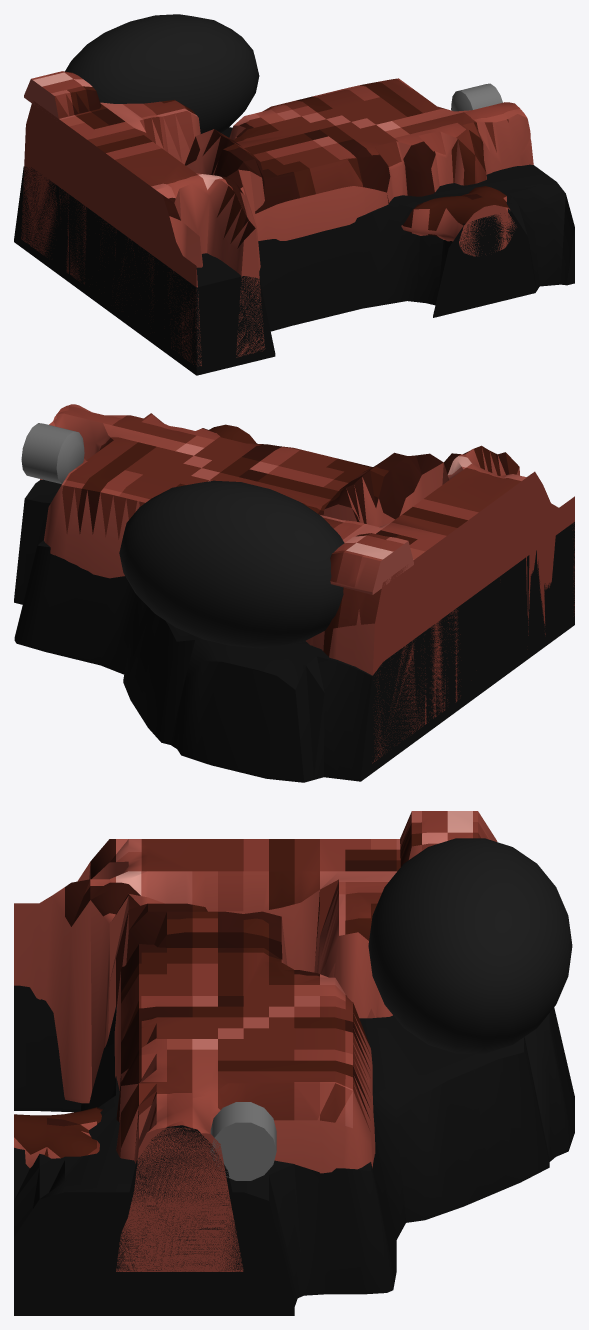
File: deli_boss_9.glb
3 views of the same model, one above another, from view 1: azimuth 30°, elevation 25°; view 2: azimuth 150°, elevation 25°; view 3: azimuth 270°, elevation 25° (orthographic). The views are drawn at different scales.
Parts seen in each view (by area): view 1: deli_boss_9_core, deli_boss_9_frame, deli_boss_9_beam, deli_boss_9_hump_m, deli_boss_9_claw, deli_boss_9_plate, deli_boss_9_pin_m; view 2: deli_boss_9_core, deli_boss_9_frame, deli_boss_9_hump_m, deli_boss_9_beam, deli_boss_9_plate, deli_boss_9_pin_m, deli_boss_9_claw; view 3: deli_boss_9_core, deli_boss_9_beam, deli_boss_9_frame, deli_boss_9_hump_m, deli_boss_9_bend, deli_boss_9_pin_m, deli_boss_9_claw, deli_boss_9_plate.
Boxes of the visible parts, box(x1,y1,x2,y2) form: deli_boss_9_core: box(14, 127, 574, 375); deli_boss_9_frame: box(21, 99, 265, 366); deli_boss_9_beam: box(229, 78, 530, 240); deli_boss_9_hump_m: box(65, 14, 259, 133); deli_boss_9_claw: box(401, 186, 516, 256); deli_boss_9_plate: box(24, 71, 101, 118); deli_boss_9_pin_m: box(451, 83, 502, 111); deli_boss_9_core: box(14, 479, 574, 782); deli_boss_9_frame: box(306, 445, 574, 763); deli_boss_9_hump_m: box(119, 480, 344, 648); deli_boss_9_beam: box(44, 404, 372, 578); deli_boss_9_plate: box(330, 533, 413, 594); deli_boss_9_pin_m: box(21, 423, 84, 484); deli_boss_9_claw: box(209, 424, 256, 443); deli_boss_9_core: box(14, 985, 574, 1315); deli_boss_9_beam: box(114, 944, 392, 1271); deli_boss_9_frame: box(14, 839, 400, 1103); deli_boss_9_hump_m: box(368, 838, 572, 1053); deli_boss_9_bend: box(114, 1121, 245, 1257); deli_boss_9_pin_m: box(210, 1102, 276, 1180); deli_boss_9_claw: box(14, 1107, 102, 1167); deli_boss_9_plate: box(400, 811, 497, 866).
Size of the model in its own units: 24 by 12.22 by 22.
